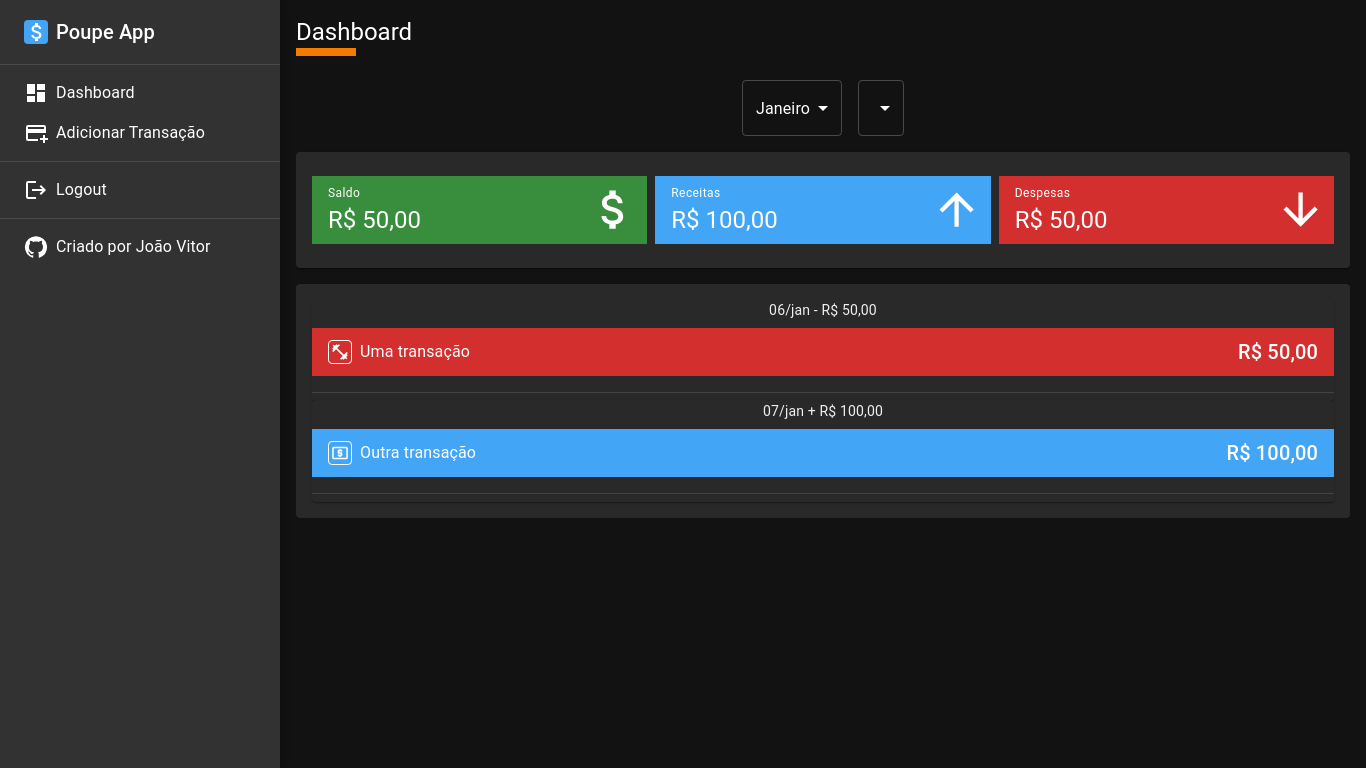
it: <Dashboard /> › Open Transaction modal
Click the text "Uma transação": [399, 352] box [328, 340, 470, 364]
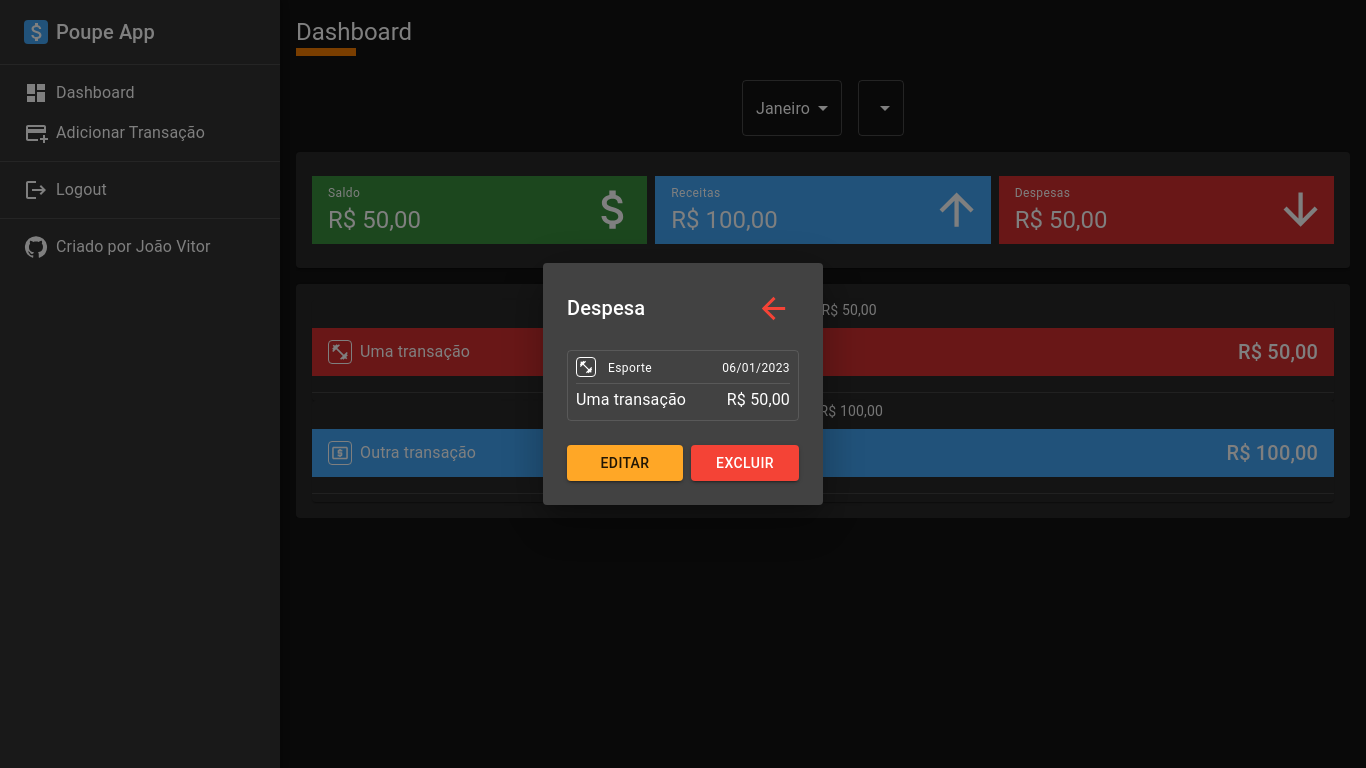
Expected: the element with test id "transaction" is shown
